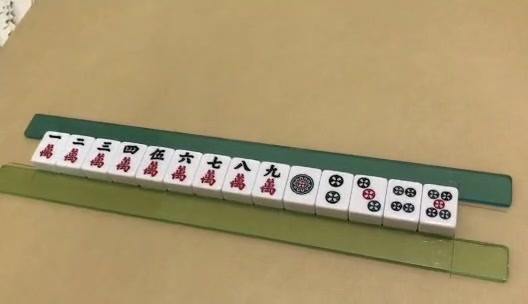1m: (41, 134, 61, 158)
1p: (291, 174, 313, 195)
2m: (65, 138, 87, 163)
2p: (324, 175, 344, 203)
3m: (88, 140, 111, 169)
3p: (356, 176, 380, 212)
4m: (114, 145, 138, 172)
4p: (389, 184, 418, 215)
5m: (143, 148, 166, 177)
5p: (425, 186, 452, 219)
6m: (172, 152, 194, 183)
7m: (202, 152, 222, 188)
8m: (231, 160, 252, 190)
9m: (260, 165, 281, 196)
